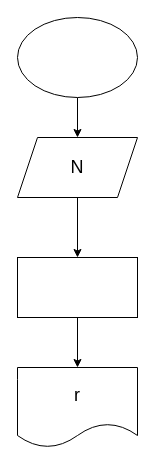
Image size: 155x465. Some labels were removed from this diagram. The box of each missing label's shape, as (x1, y1, x2, y2) in pixels:
r r = random(1,N): (16, 256, 138, 318)
START: (16, 16, 138, 98)
